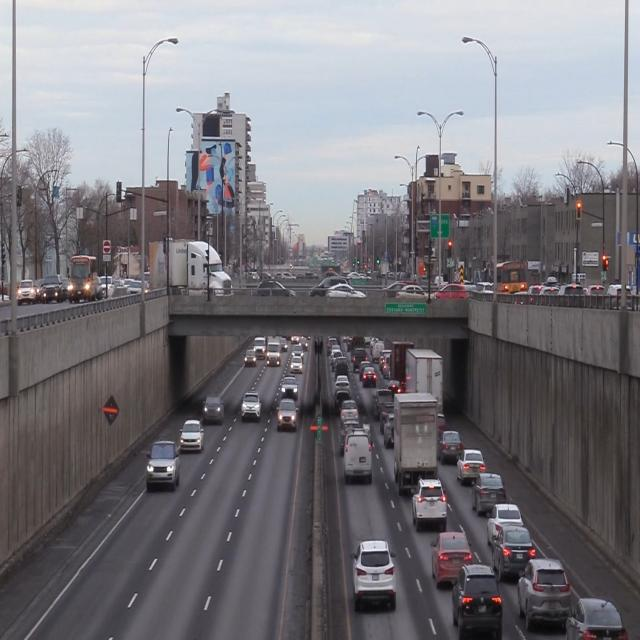Car: (392, 396, 439, 480), (521, 558, 570, 627), (349, 542, 398, 607), (454, 573, 504, 635), (568, 601, 626, 640), (432, 528, 472, 583), (492, 528, 536, 578), (412, 479, 448, 529), (148, 442, 181, 491), (343, 429, 374, 481), (471, 473, 507, 516), (486, 504, 524, 534), (456, 449, 484, 482), (179, 417, 204, 453), (274, 401, 298, 432), (238, 391, 260, 421), (202, 398, 227, 424), (278, 376, 300, 400)
